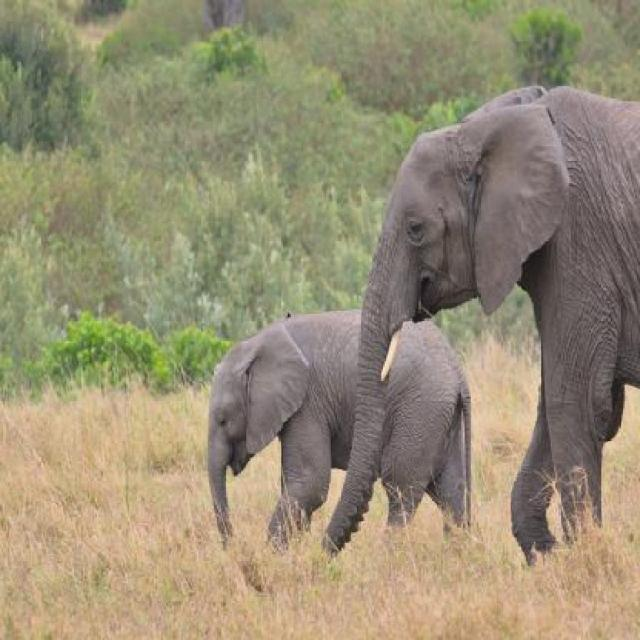Elephant: (330, 85, 638, 564), (194, 292, 492, 592)
